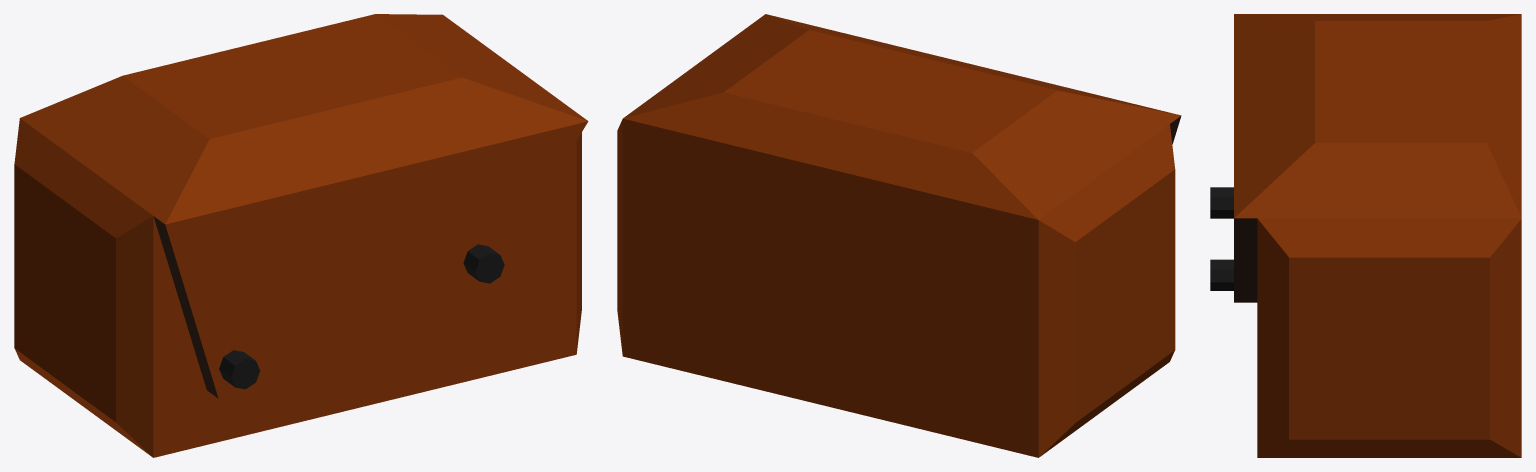
The model's file is bag.fbx.
The picture shows the model from 3 angles, left to right: view 1: azimuth 30°, elevation 25°; view 2: azimuth 150°, elevation 25°; view 3: azimuth 270°, elevation 25°; orthographic projection.
Parts seen in each view (by area): view 1: Cube; view 2: Cube; view 3: Cube.
Boxes of the visible parts, x1,y1,x2,y2 form: Cube: (14, 14, 588, 457); Cube: (617, 14, 1181, 457); Cube: (1210, 14, 1521, 457).
Bounding box in the file's own units: 263 × 149 × 154.
1 material, 1 textured.
